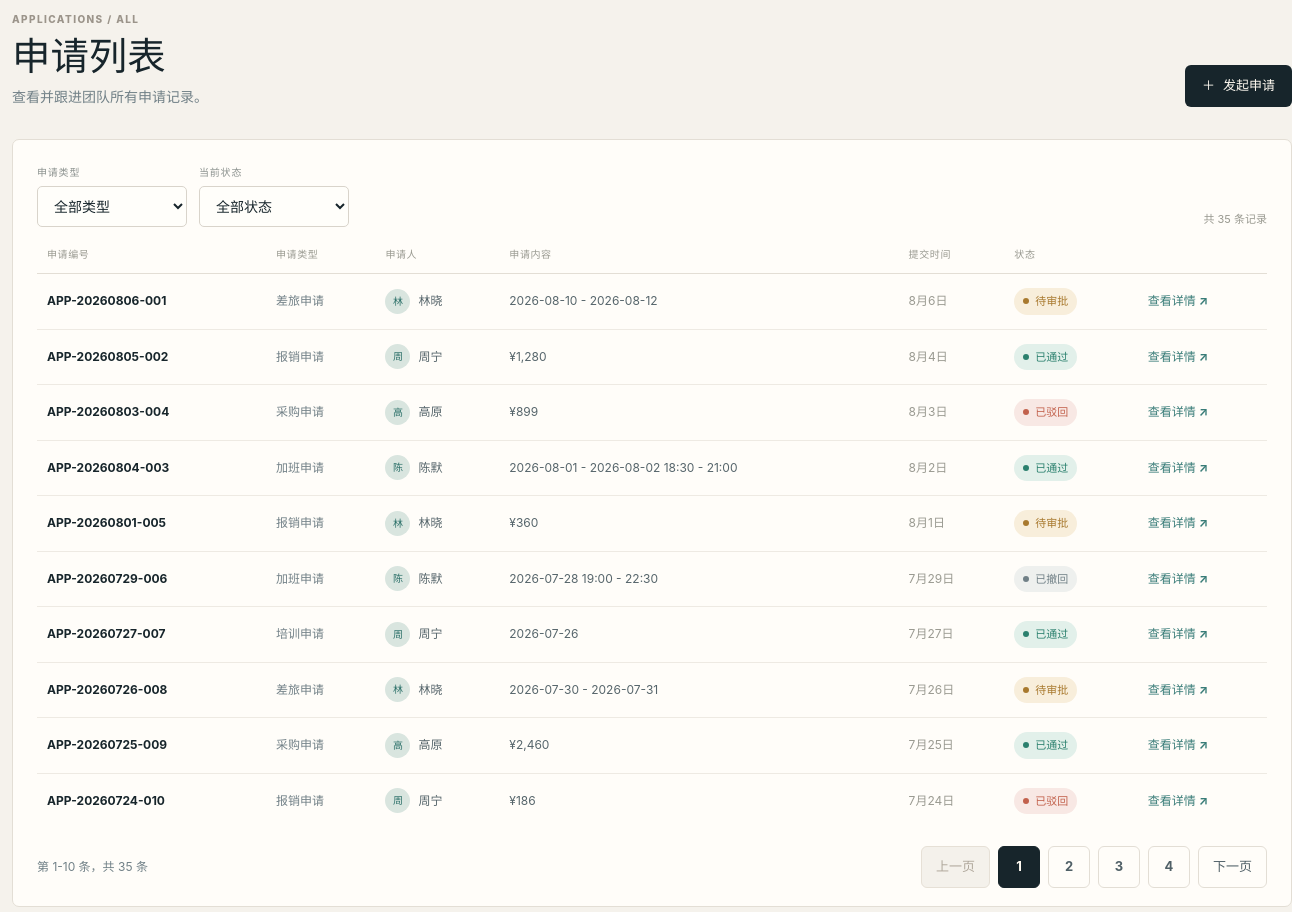
Test: resets to page 1 after changing filters
Click the button named "第 4 页" at [1169, 867], box [1148,846,1190,888]
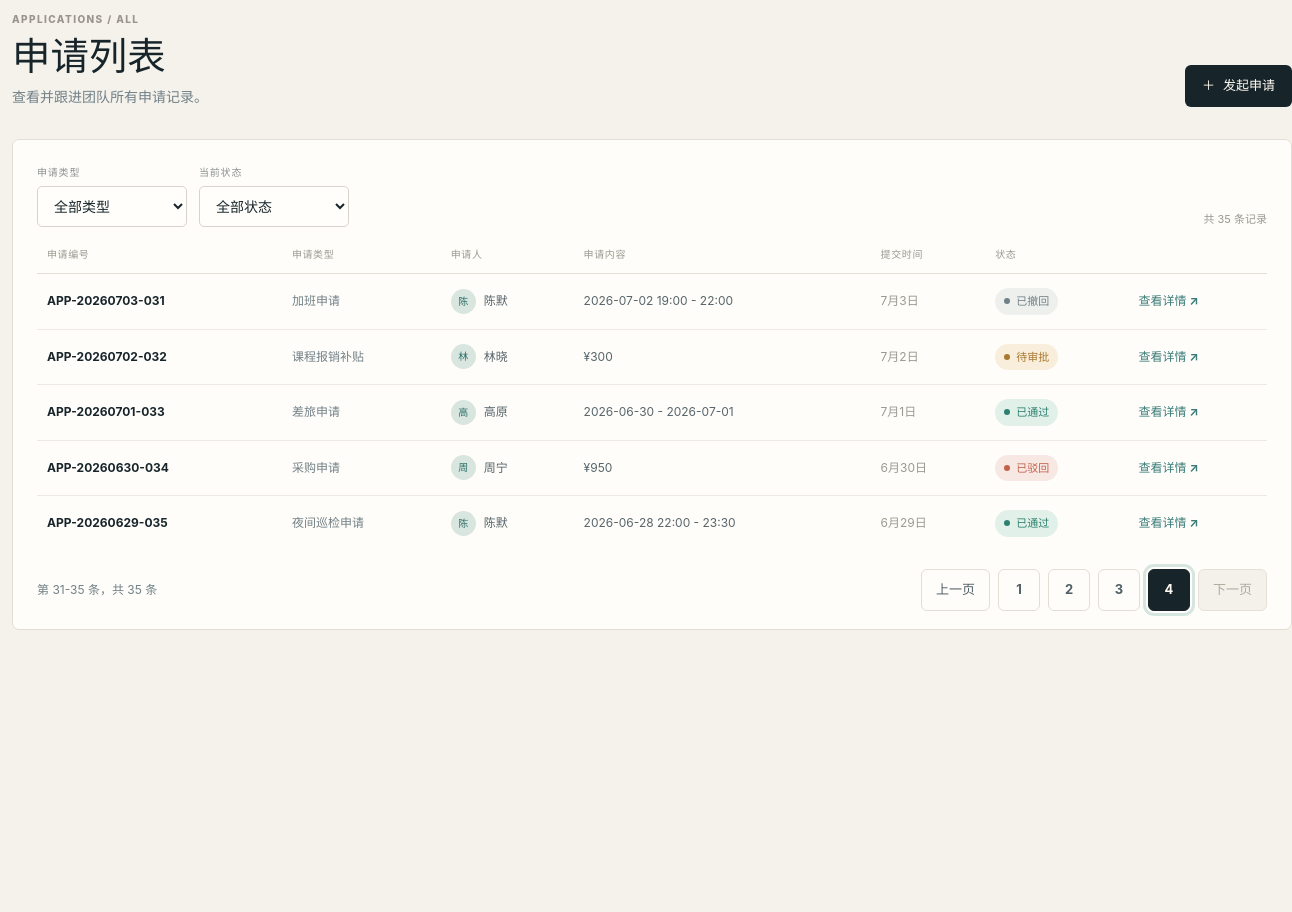
Result: the text "第 31-35 条，共 35 条" is shown at [37,581,157,599]
Select "已通过" in the dropdown labelled "当前状态" at [274, 207], box [199,186,349,227]
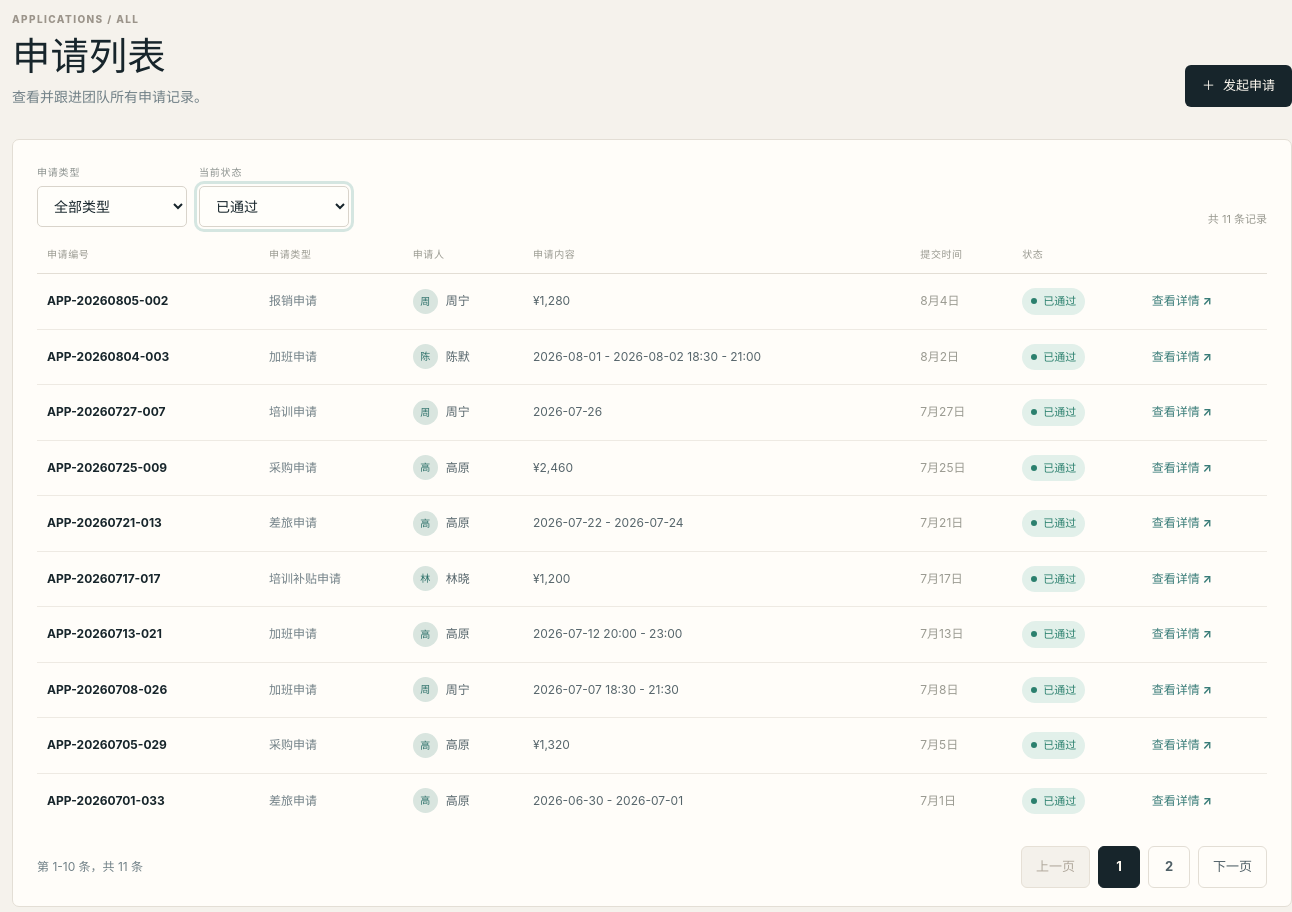
Result: the text "第 1-10 条，共 11 条" is shown at [37,858,143,876]
